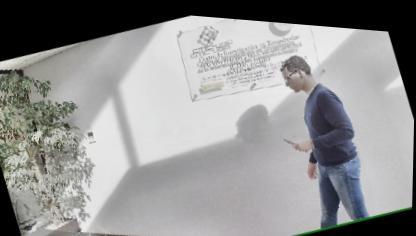knife: (280, 123, 310, 152)
